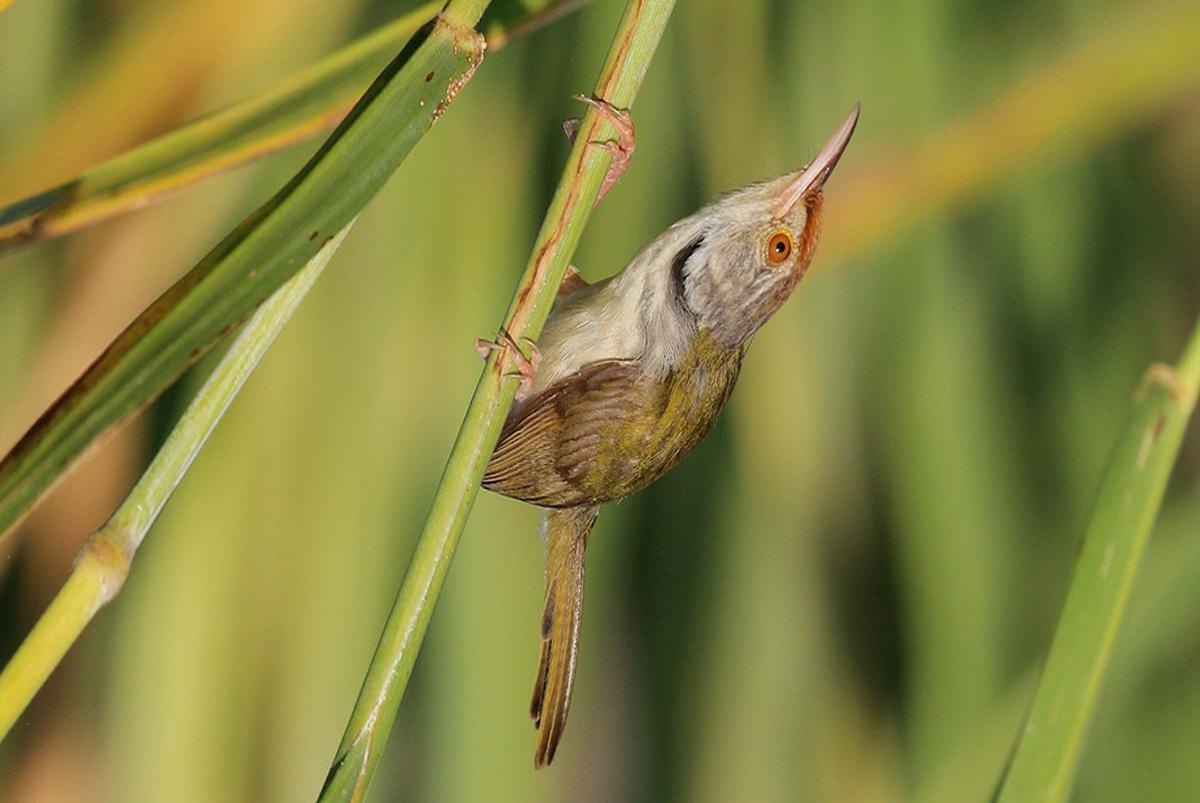tailorbird: (413, 73, 913, 803)
